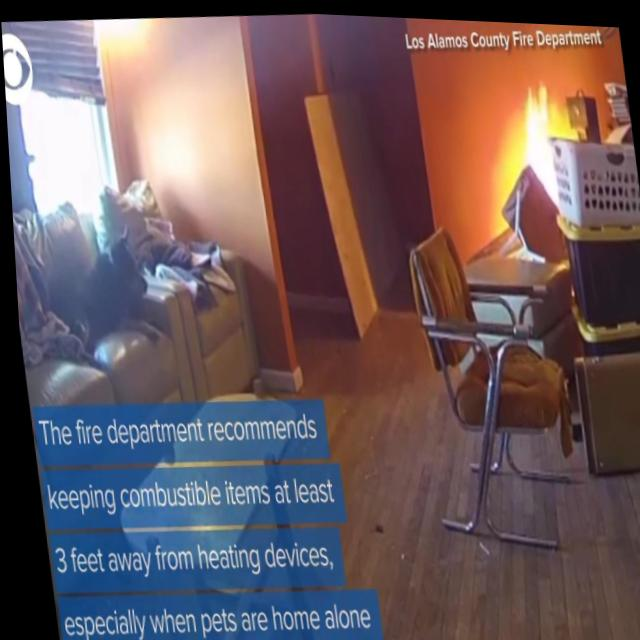fire: (516, 73, 588, 208)
